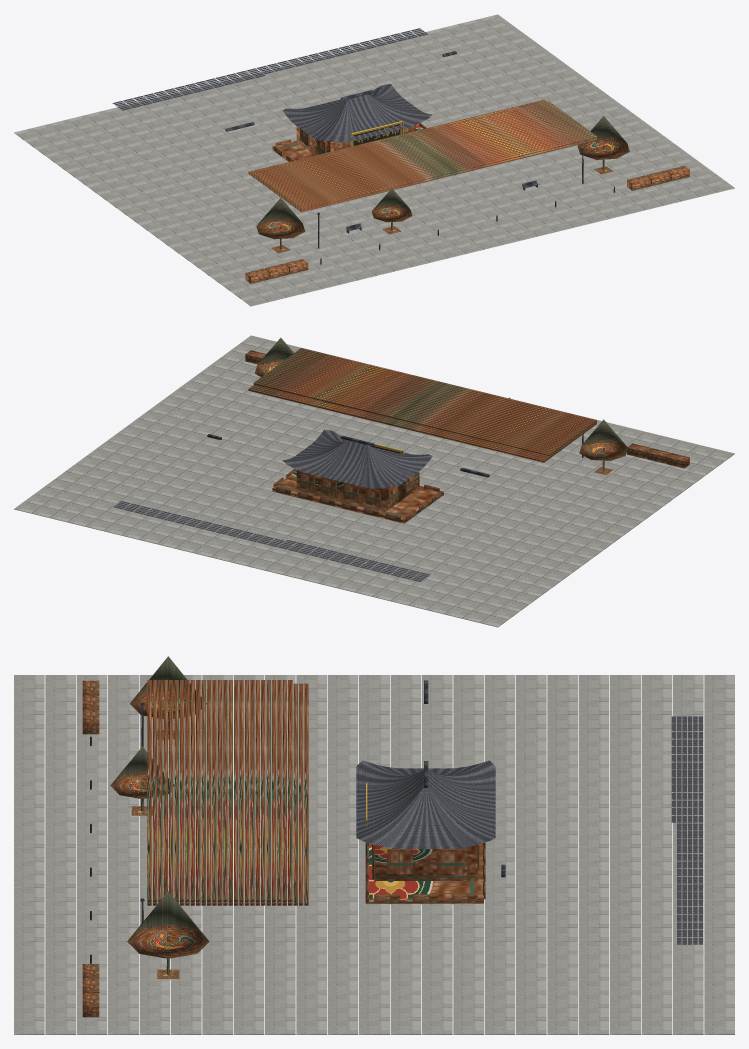
The picture shows the model from 3 angles, top to bottom: view 1: azimuth 30°, elevation 25°; view 2: azimuth 150°, elevation 25°; view 3: azimuth 270°, elevation 25°; orthographic projection. The views are drawn at different scales.
Parts seen in each view (by area): view 1: 11140_02_04626_026_01__plinth_ground_base, 11140_02_04626_026_02__mass_body_facade, 11140_02_04626_026_03__roof_deck_structure, 11140_02_04626_026_06__landscape_greenery; view 2: 11140_02_04626_026_01__plinth_ground_base, 11140_02_04626_026_02__mass_body_facade, 11140_02_04626_026_03__roof_deck_structure, 11140_02_04626_026_06__landscape_greenery; view 3: 11140_02_04626_026_01__plinth_ground_base, 11140_02_04626_026_02__mass_body_facade, 11140_02_04626_026_03__roof_deck_structure, 11140_02_04626_026_06__landscape_greenery.
Part boxes in pixels (x1,y1,x2,y2): 11140_02_04626_026_01__plinth_ground_base: (14, 14, 734, 306); 11140_02_04626_026_02__mass_body_facade: (248, 100, 596, 212); 11140_02_04626_026_03__roof_deck_structure: (112, 28, 432, 142); 11140_02_04626_026_06__landscape_greenery: (245, 116, 689, 283); 11140_02_04626_026_01__plinth_ground_base: (14, 335, 734, 627); 11140_02_04626_026_02__mass_body_facade: (248, 348, 596, 523); 11140_02_04626_026_03__roof_deck_structure: (113, 429, 432, 582); 11140_02_04626_026_06__landscape_greenery: (245, 337, 689, 474); 11140_02_04626_026_01__plinth_ground_base: (14, 675, 734, 1034); 11140_02_04626_026_02__mass_body_facade: (147, 680, 485, 905); 11140_02_04626_026_03__roof_deck_structure: (356, 716, 702, 944); 11140_02_04626_026_06__landscape_greenery: (82, 656, 209, 1017).
Bounding box in the file's own units: 65.95 × 7.2 × 55.95.
Materials: 7 (7 with a texture image).
